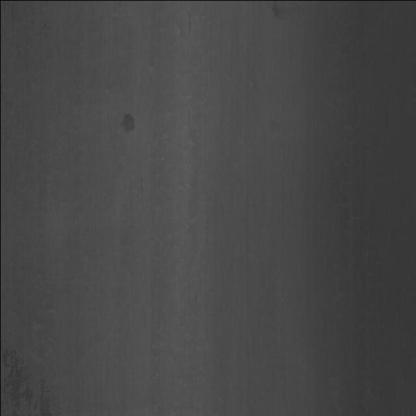water_spot: (118, 104, 141, 143)
